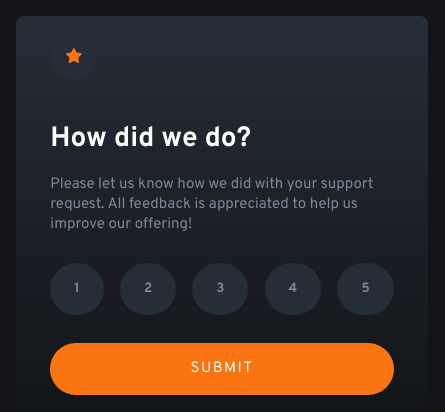
Test case: InteractiveRatingComponent › layout › text › has a heading when the button is clicked
This screenshot has width=445, height=412.
Step 1. Click the button with test id "submit-button-test" → click(222, 369), box [50,343,394,395]
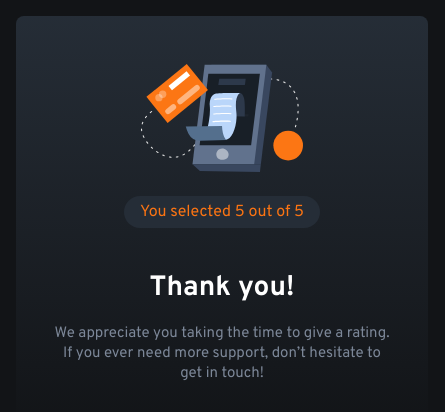
Now the heading "Thank you!" is shown, box [150,270,294,306]
